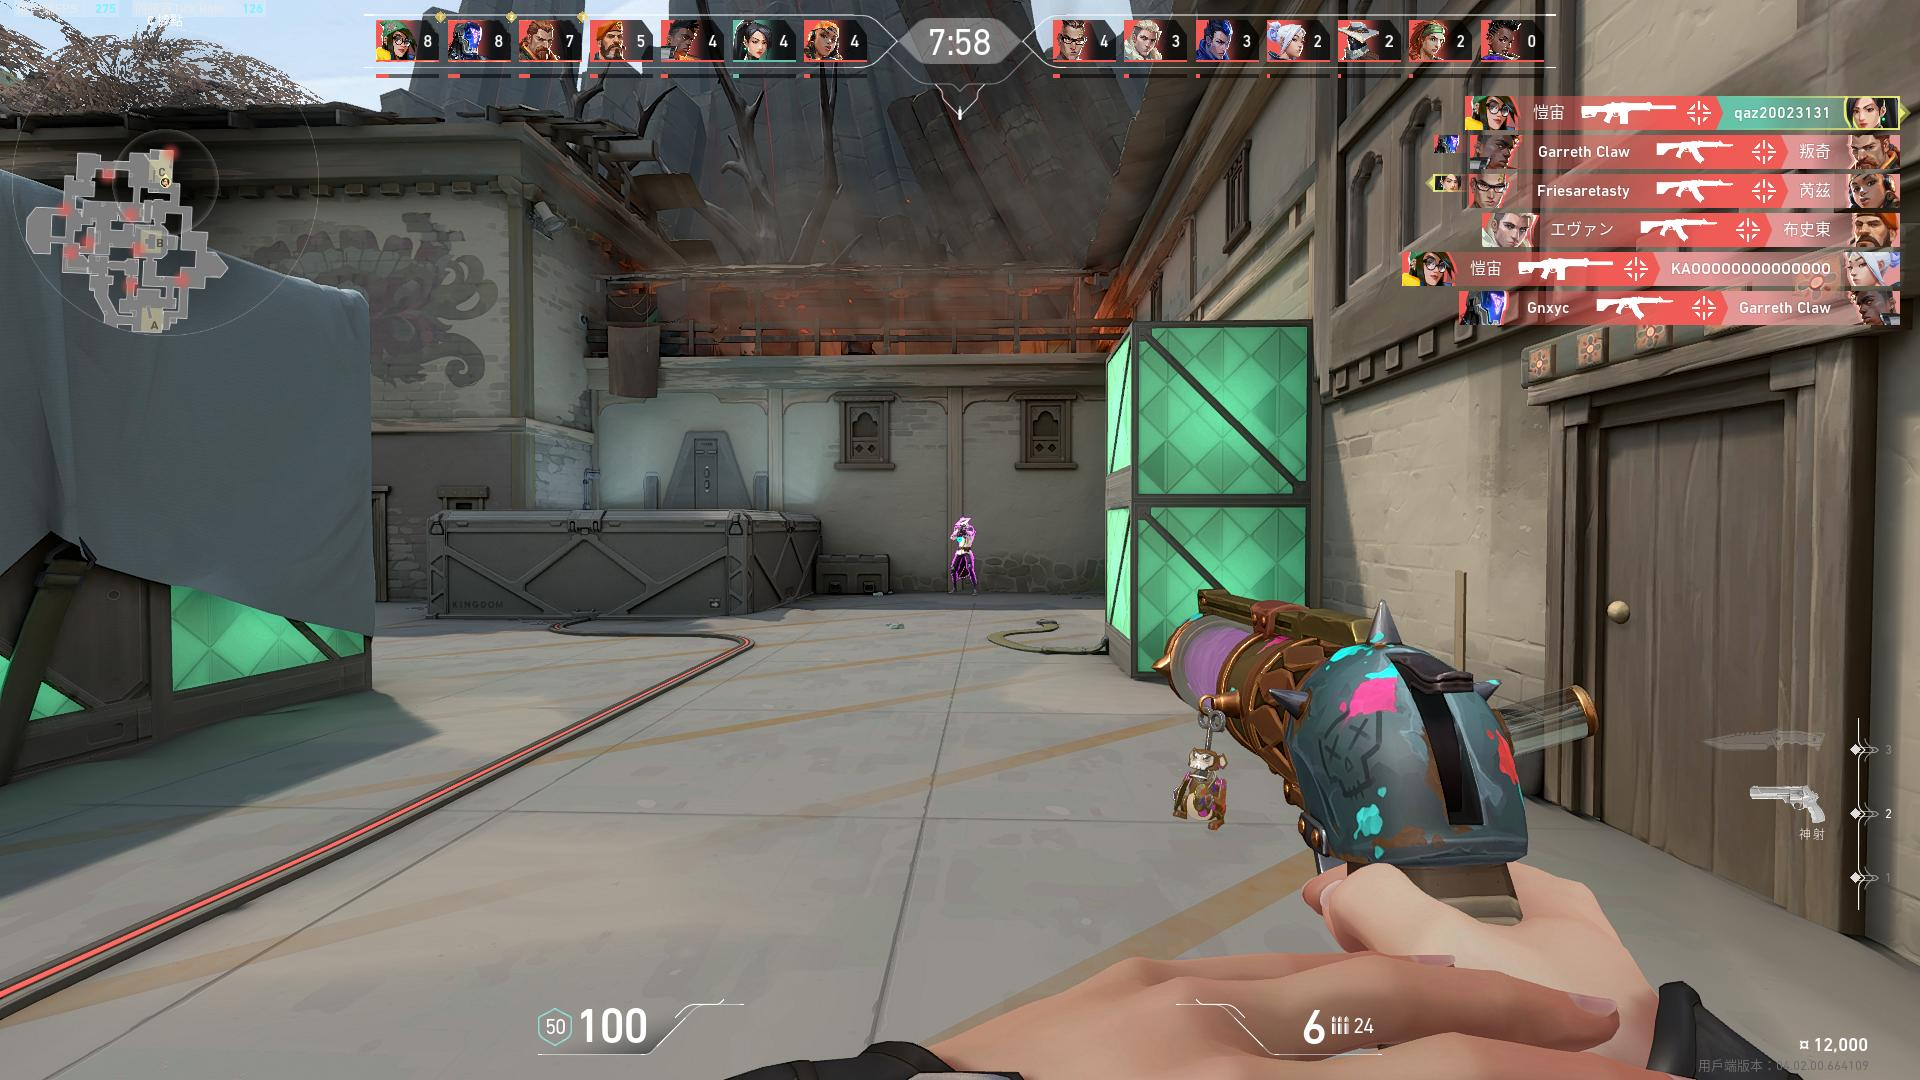enemyBody: (960, 530, 969, 553)
enemyHead: (960, 521, 967, 527)
